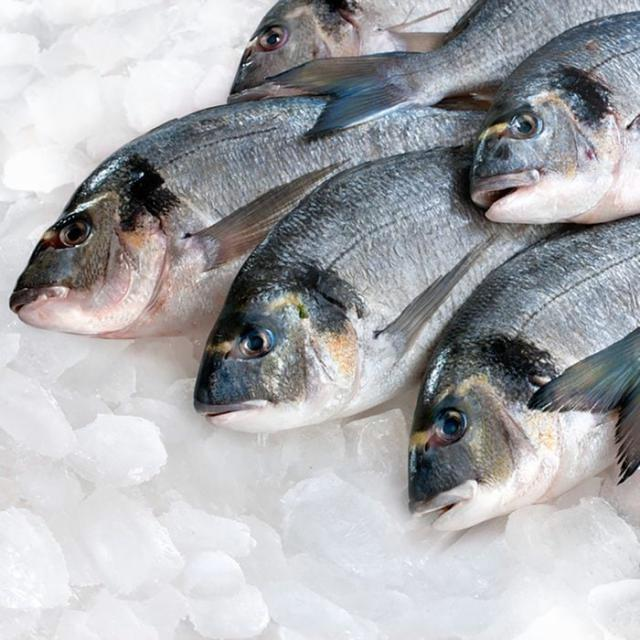fish: (9, 98, 481, 337), (193, 129, 562, 431), (408, 218, 638, 529), (260, 0, 638, 132), (470, 10, 638, 222), (227, 0, 474, 100), (530, 12, 638, 138)
